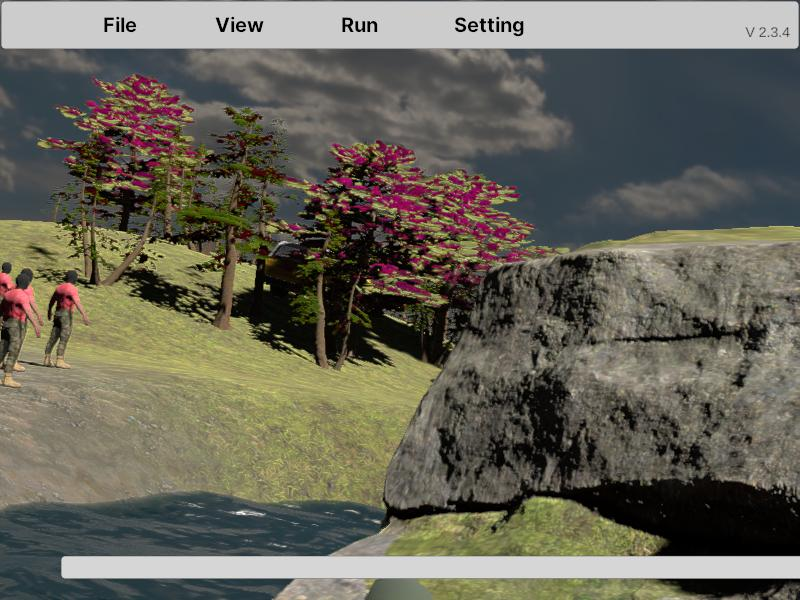Human: (0, 271, 40, 386), (44, 271, 88, 369), (0, 260, 20, 350)
